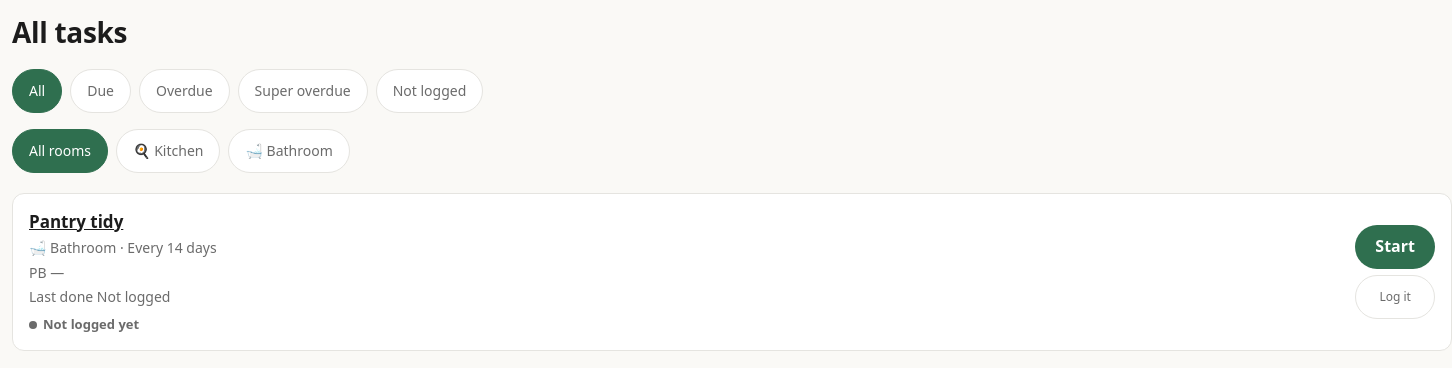
Test: Tasks page › lets you log a completion that happened outside the app, updating the status immediately
Expected: the link "Pantry tidy" is shown, [29, 210, 123, 233]
Expected: the text "Not logged yet" is shown, [29, 315, 139, 333]
Click the button "Log it" at coordinates (1395, 297), box [1355, 275, 1435, 319]
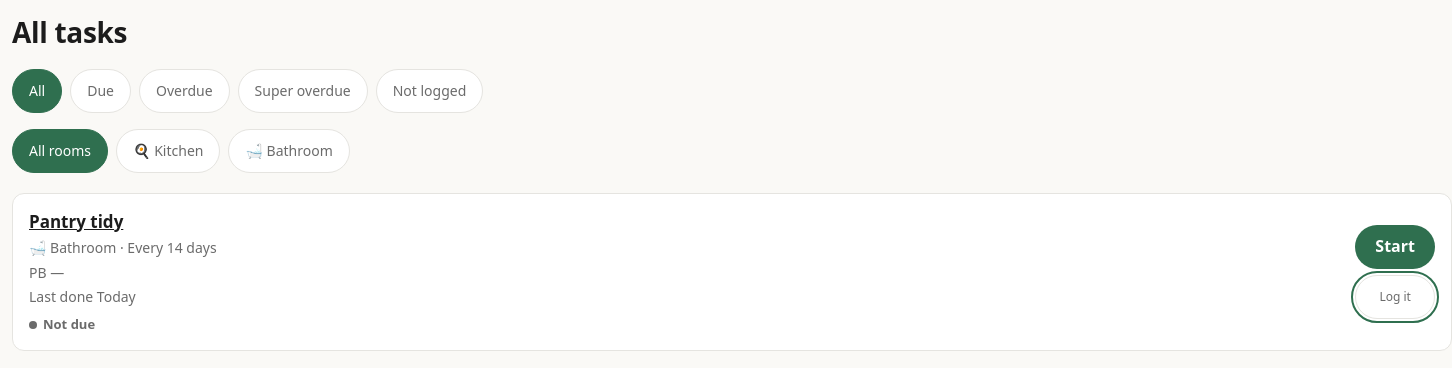
Expected: the text "Not logged yet" is gone
